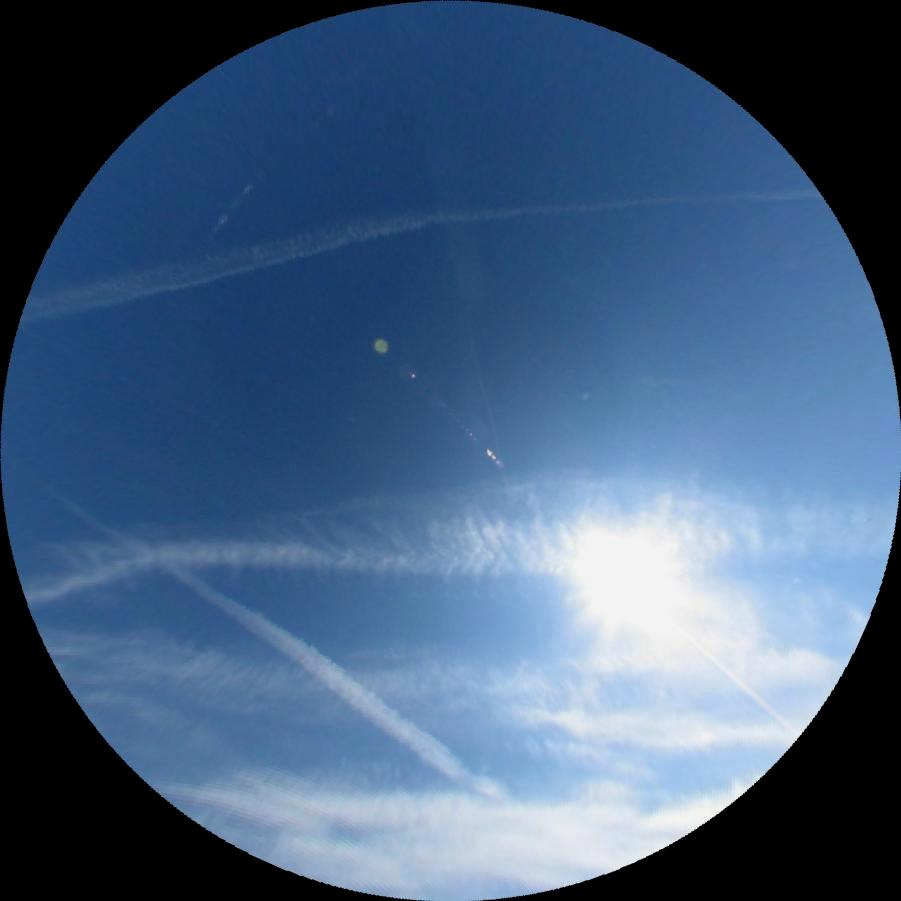contrail veryold: (49, 477, 517, 813), (12, 144, 821, 328), (17, 449, 898, 611)
parasite: (667, 622, 801, 737), (209, 167, 264, 236)
sun: (580, 528, 697, 646)
